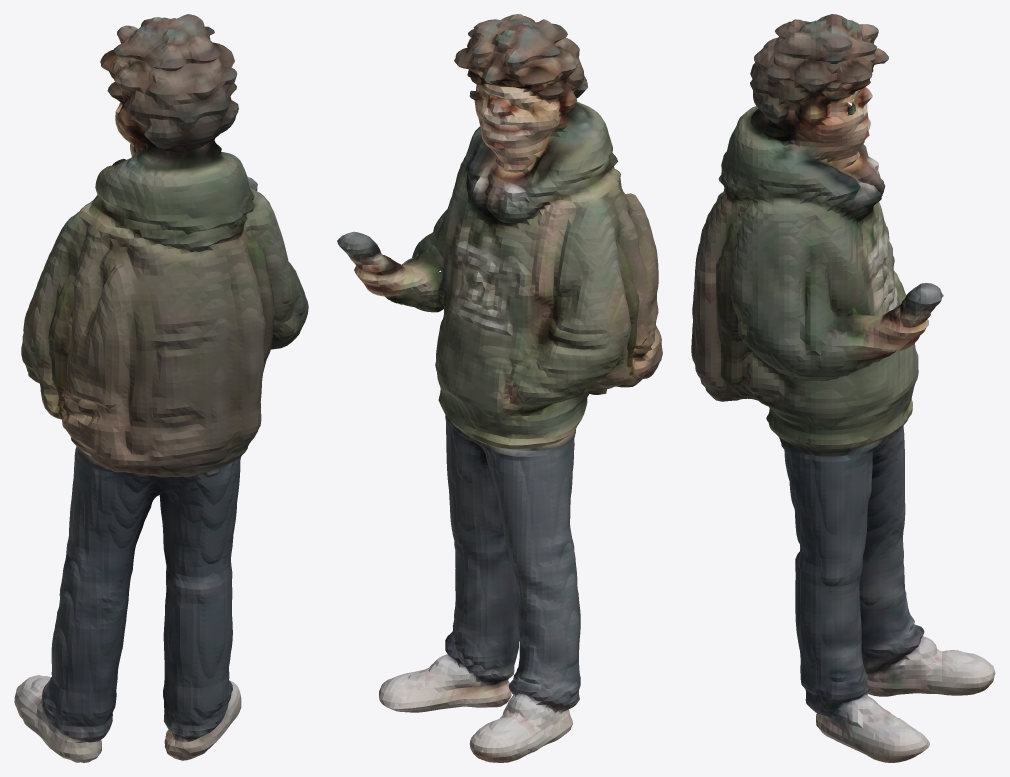
Rendered from guest-v2.glb.
The picture shows the model from 3 angles, left to right: view 1: azimuth 30°, elevation 25°; view 2: azimuth 150°, elevation 25°; view 3: azimuth 270°, elevation 25°; orthographic projection. The views are drawn at different scales.
Visible parts, largest first — view 1: world; view 2: world; view 3: world.
Part boxes in pixels (x1,y1,x2,y2): world: (14, 14, 308, 762); world: (337, 14, 662, 762); world: (691, 14, 995, 762).
Bounding box in the file's own units: 0.3827 × 1.01 × 0.3949.
